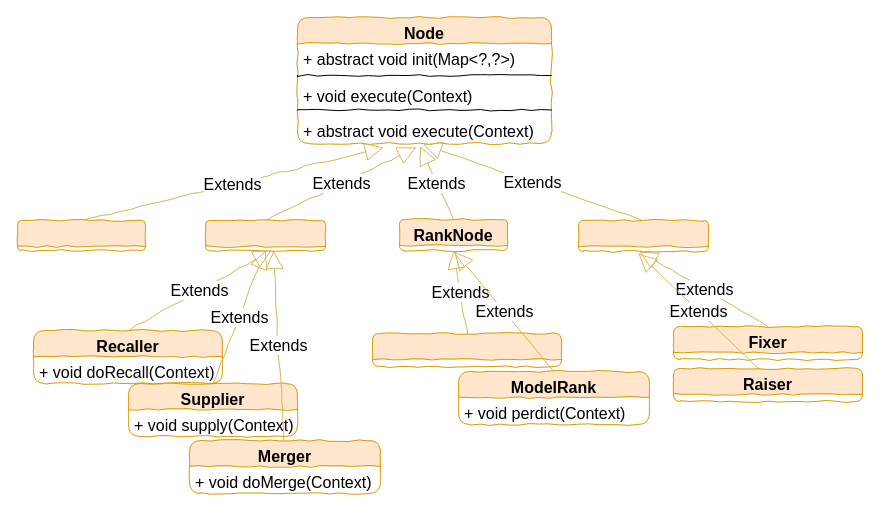
This 880x514 diagram has some shape labels left out. Here are the shapes that lost their labels. From the top down, the centre of each, then its label:
At (x=81, y=235): "CommonNode".
At (x=265, y=235): "RecallNode".
At (x=643, y=236): "ReRankNode".
At (x=467, y=349): "FeatureExtractor".
